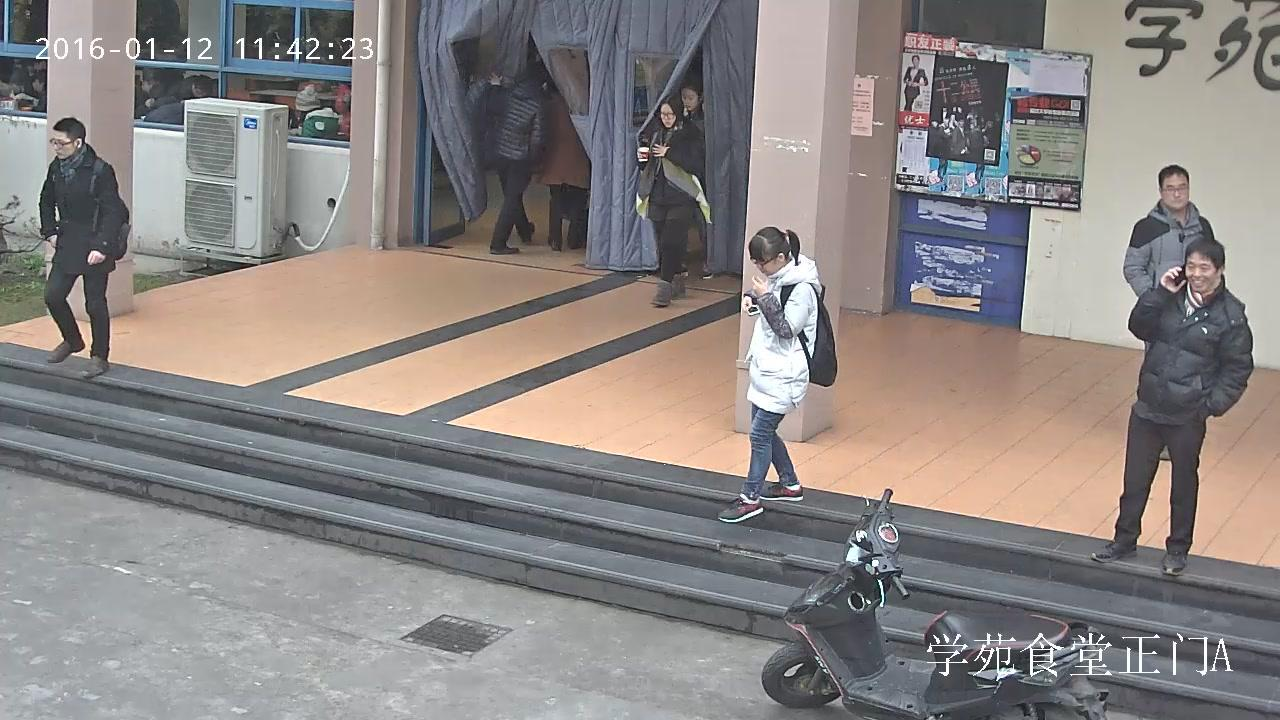person: (1090, 239, 1252, 576), (717, 226, 837, 523), (1122, 165, 1214, 460), (38, 116, 130, 377), (636, 93, 711, 307), (487, 64, 551, 253), (533, 83, 590, 253), (674, 84, 713, 279), (288, 83, 339, 140), (135, 71, 182, 117), (902, 55, 928, 112), (17, 69, 45, 111), (165, 76, 210, 99)
